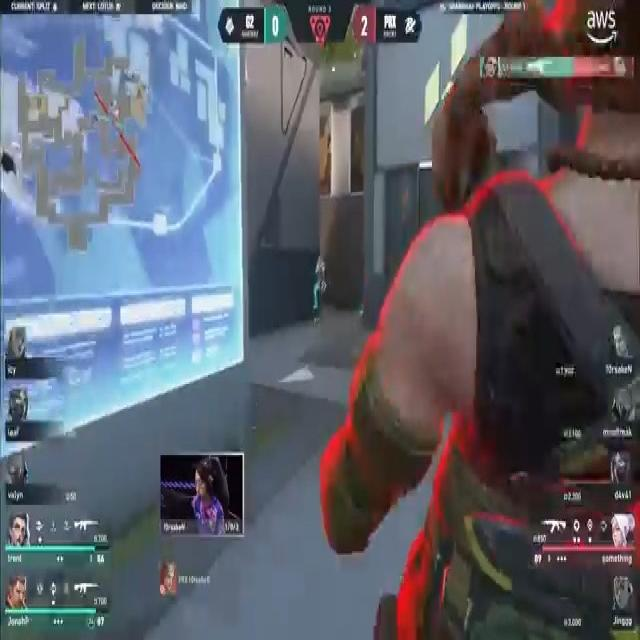ally: (316, 257, 326, 308)
